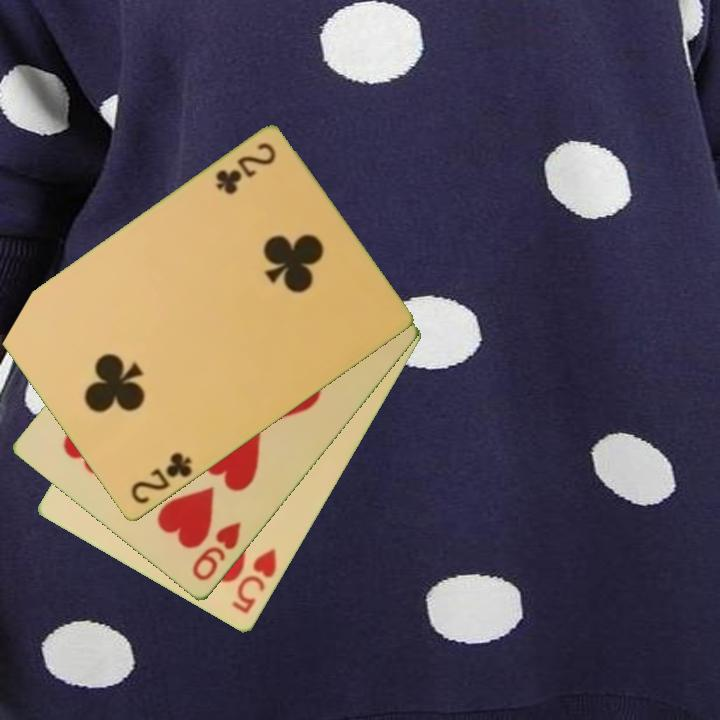2c: (127, 449, 195, 508), (211, 139, 279, 198)
5h: (228, 545, 280, 618)
9h: (188, 518, 245, 585)
